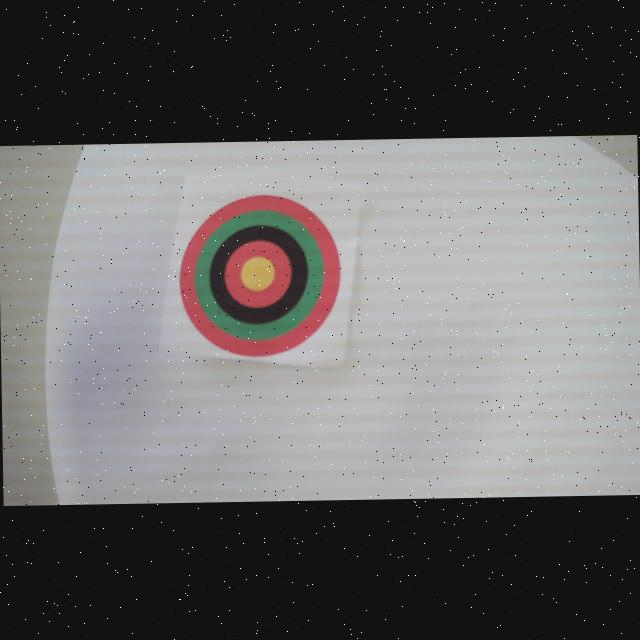COGNITIVE: (177, 192, 343, 358)
